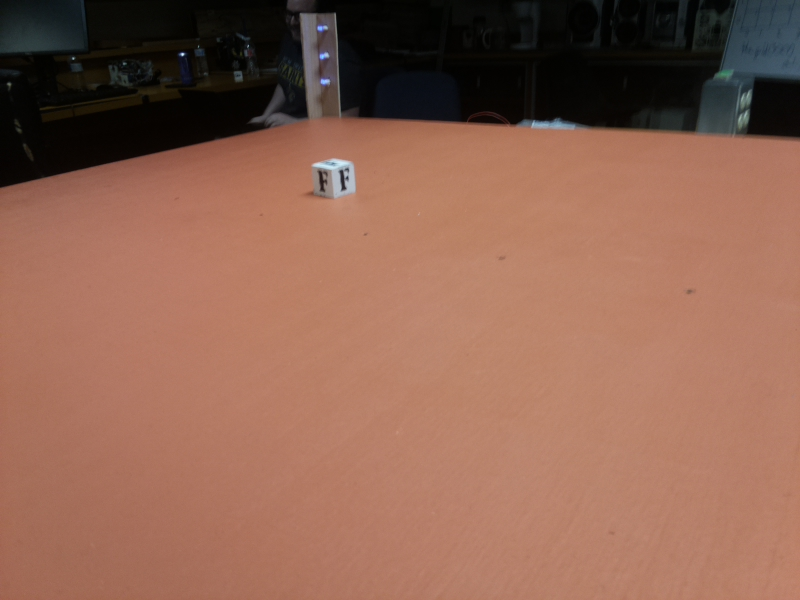blockF: (311, 157, 361, 198)
corner: (301, 11, 339, 123)
